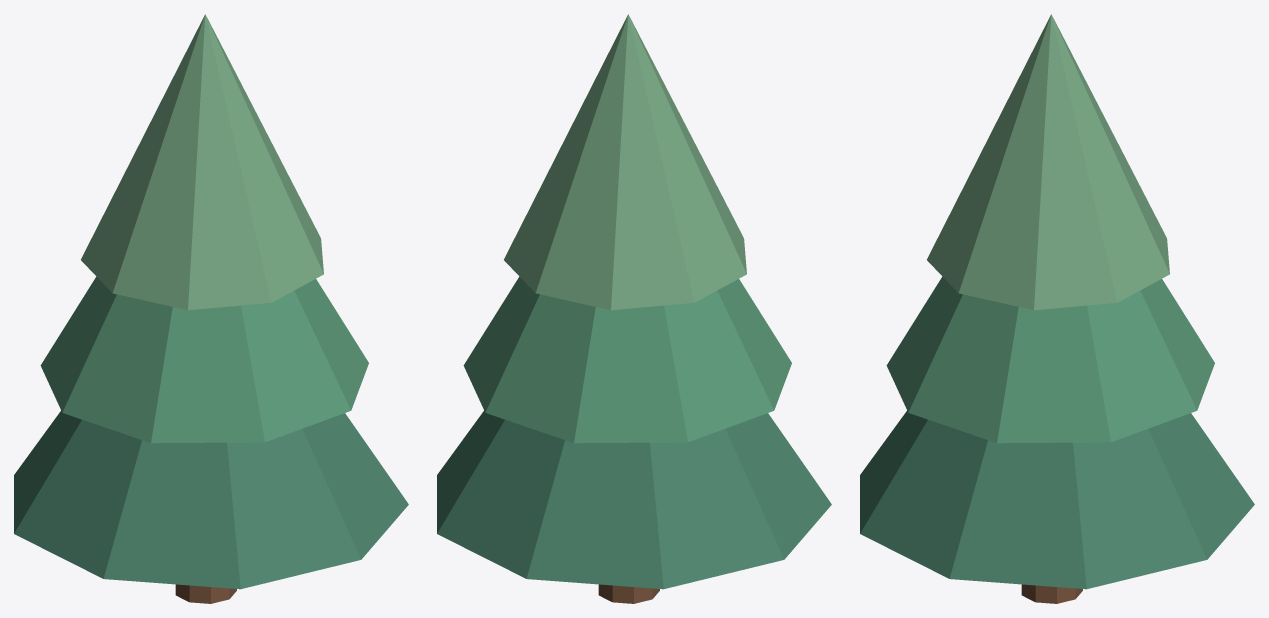
The model's file is stylized_pine.glb.
The picture shows the model from 3 angles, left to right: view 1: azimuth 30°, elevation 25°; view 2: azimuth 150°, elevation 25°; view 3: azimuth 270°, elevation 25°; orthographic projection.
Visible parts, largest first — view 1: StylizedPine; view 2: StylizedPine; view 3: StylizedPine.
Part boxes in pixels (x1,y1,x2,y2): StylizedPine: (14,14,408,603); StylizedPine: (437,14,831,603); StylizedPine: (860,14,1254,603).
Bounding box in the file's own units: 3.05 × 4.85 × 3.01.
